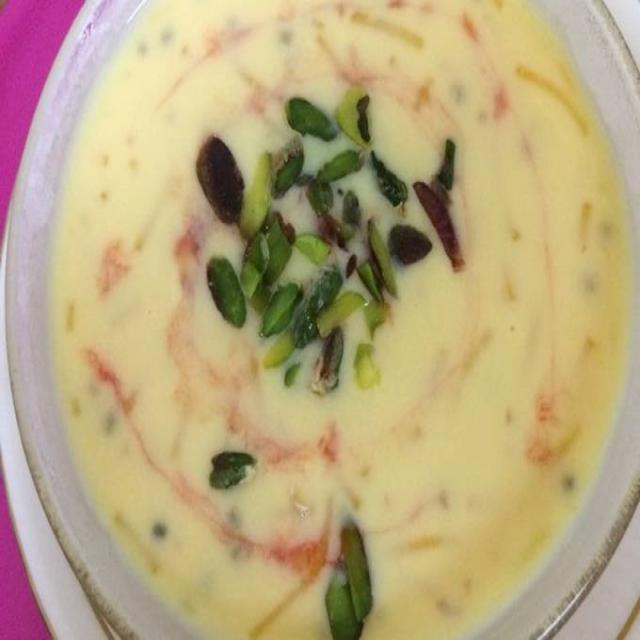Kheer: (58, 0, 624, 640)
